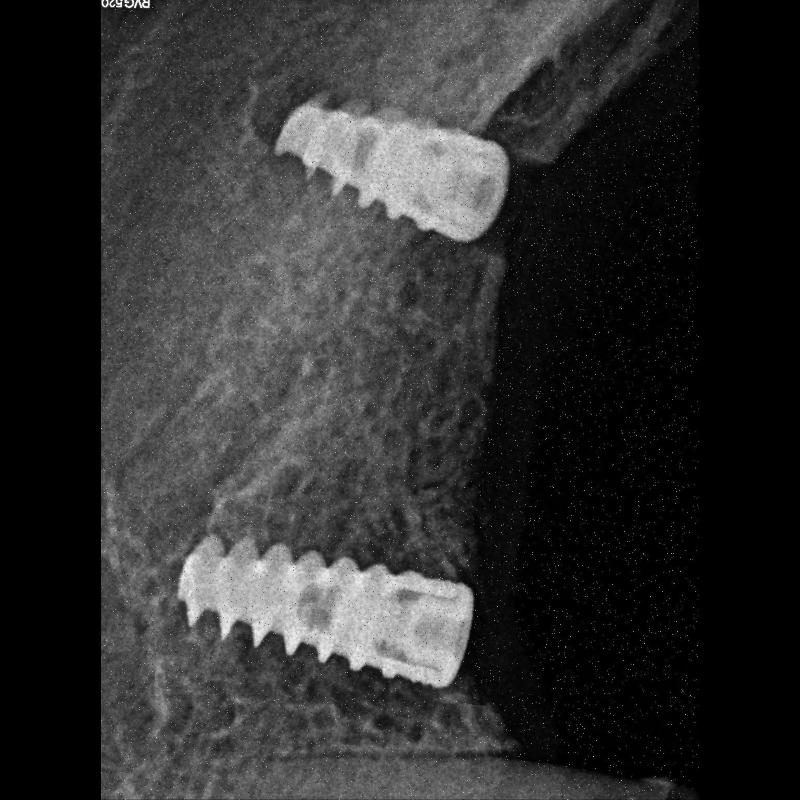ADIN: (156, 522, 494, 702), (268, 94, 530, 254)
